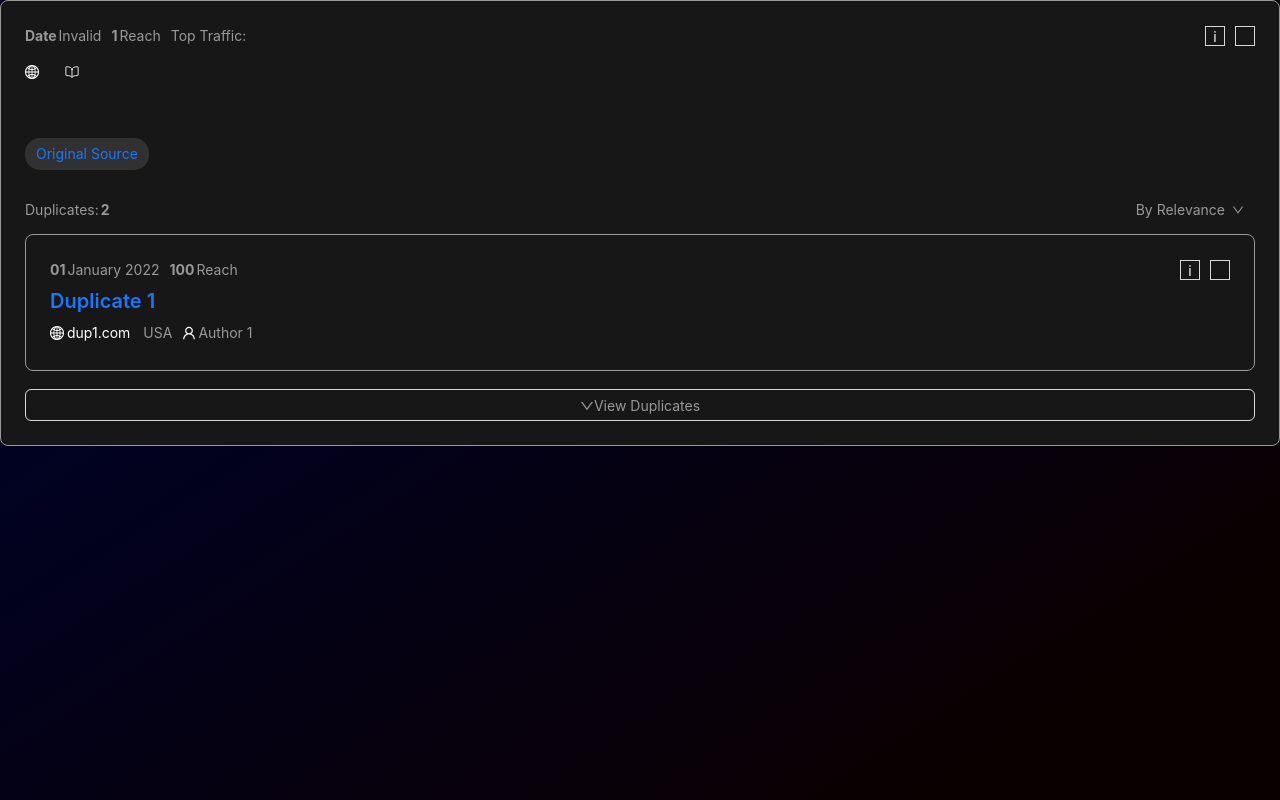
Test: NewsCard Component › toggles showing all duplicates on button click
Expected: the number of elements with test id "duplicate-card" is 1, [25,234,1255,371]
Click the button "View Duplicates". click: [640, 405]
box: [25,389,1255,421]
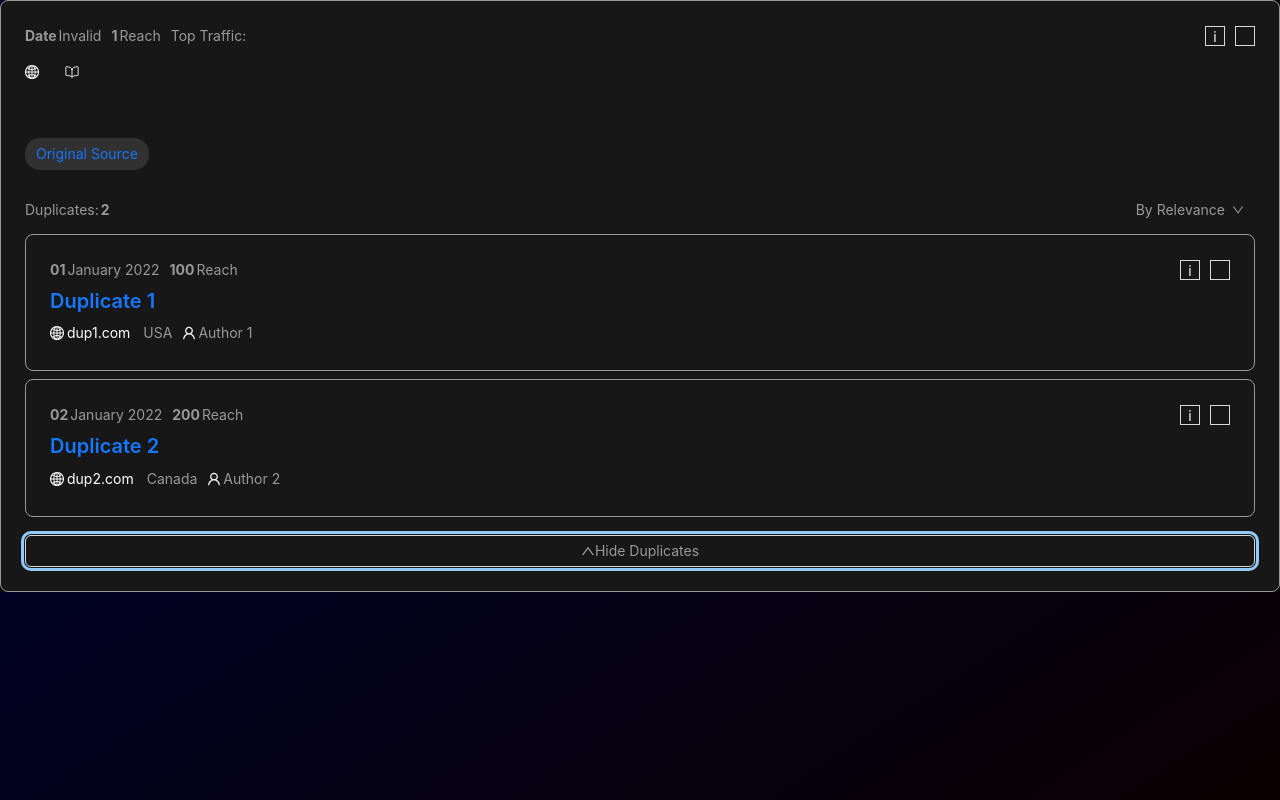
Result: the number of elements with test id "duplicate-card" is 2 at [25,234,1255,371]; [25,379,1255,517]
Result: the button "Hide Duplicates" is shown at [25,535,1255,567]
